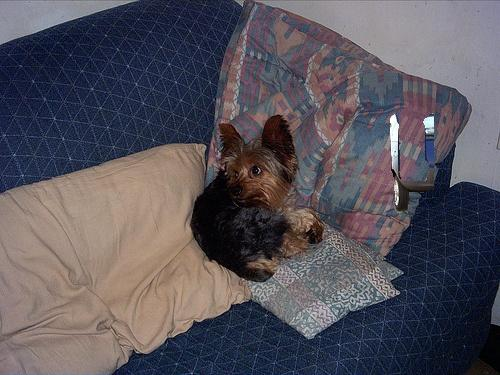tampered: (391, 114, 434, 213)
